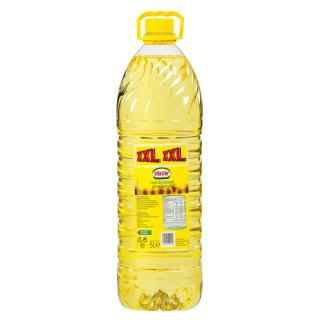Plastic-bottle: (114, 10, 208, 314)
